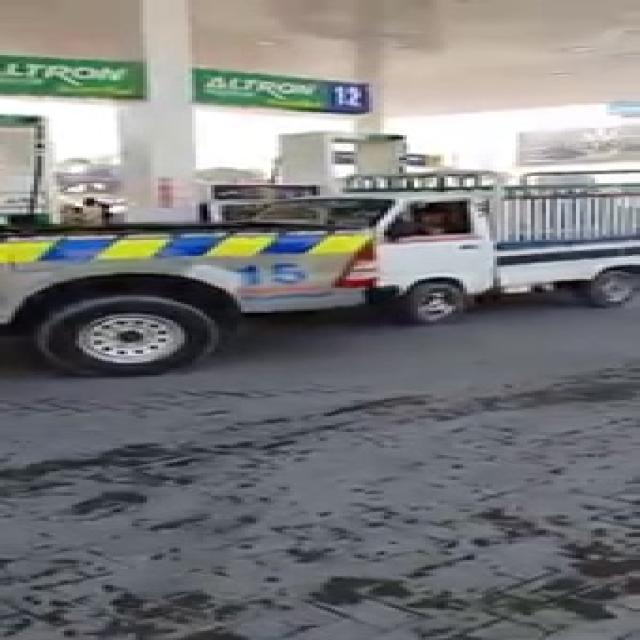police: (2, 224, 424, 352)
